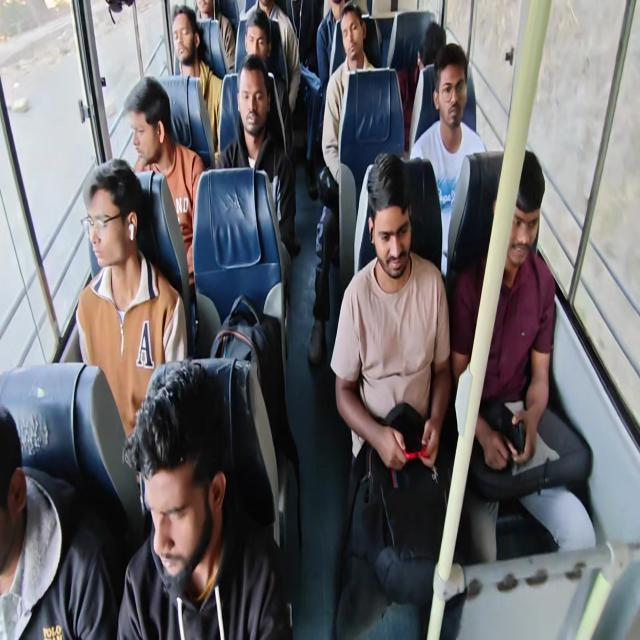person: (124, 362, 229, 594), (357, 150, 421, 287), (495, 147, 557, 270), (85, 156, 142, 280), (120, 75, 174, 164), (0, 410, 29, 572), (436, 43, 470, 129), (238, 55, 266, 141), (329, 1, 366, 54), (240, 9, 269, 68), (168, 1, 200, 54), (417, 27, 446, 61), (190, 0, 214, 23)
